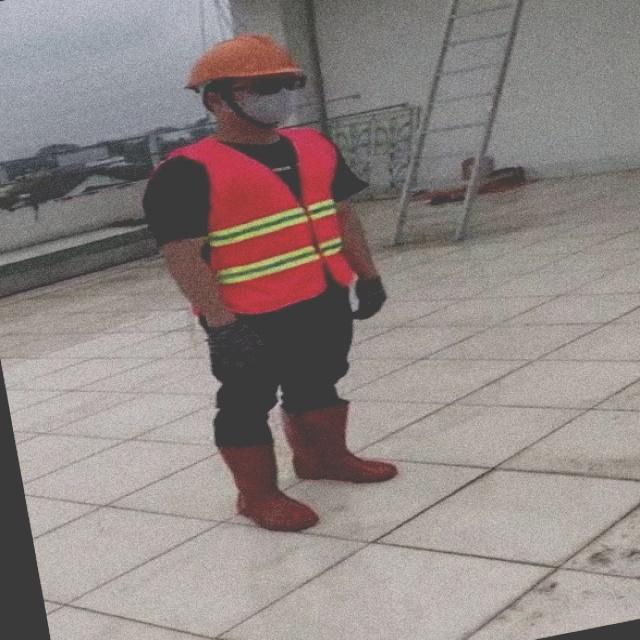helmet: (174, 29, 304, 78)
safety_vest: (164, 134, 372, 326)
